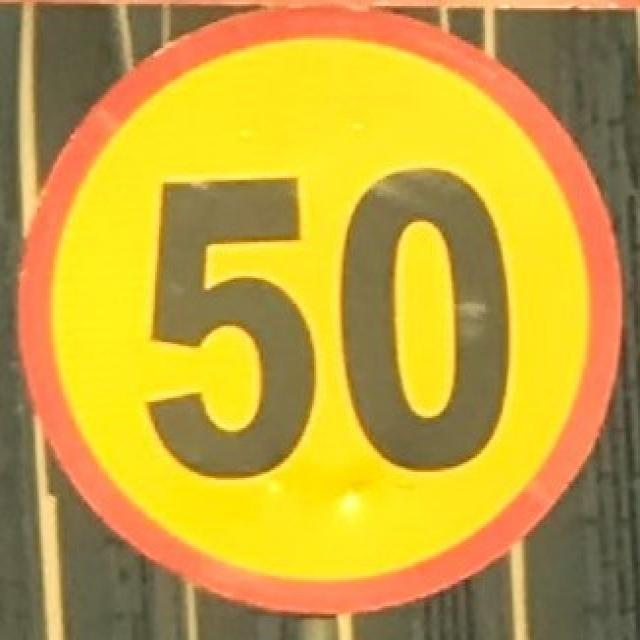Limite-50: (14, 2, 625, 618)
